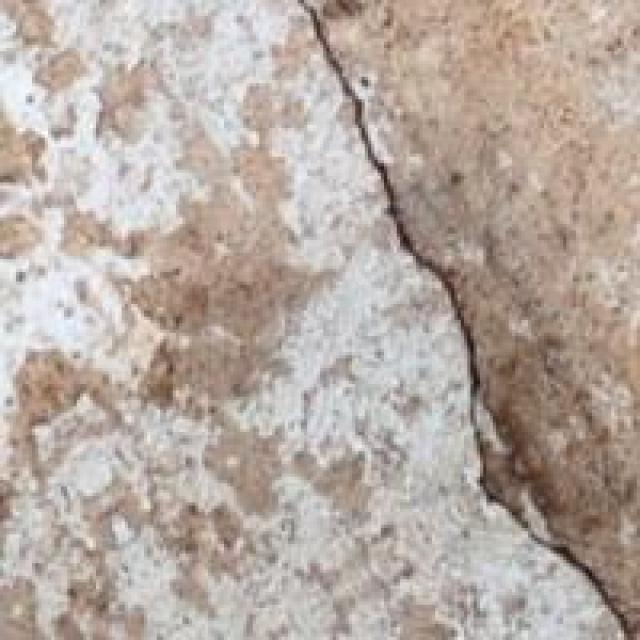Crack: (282, 0, 636, 637)
